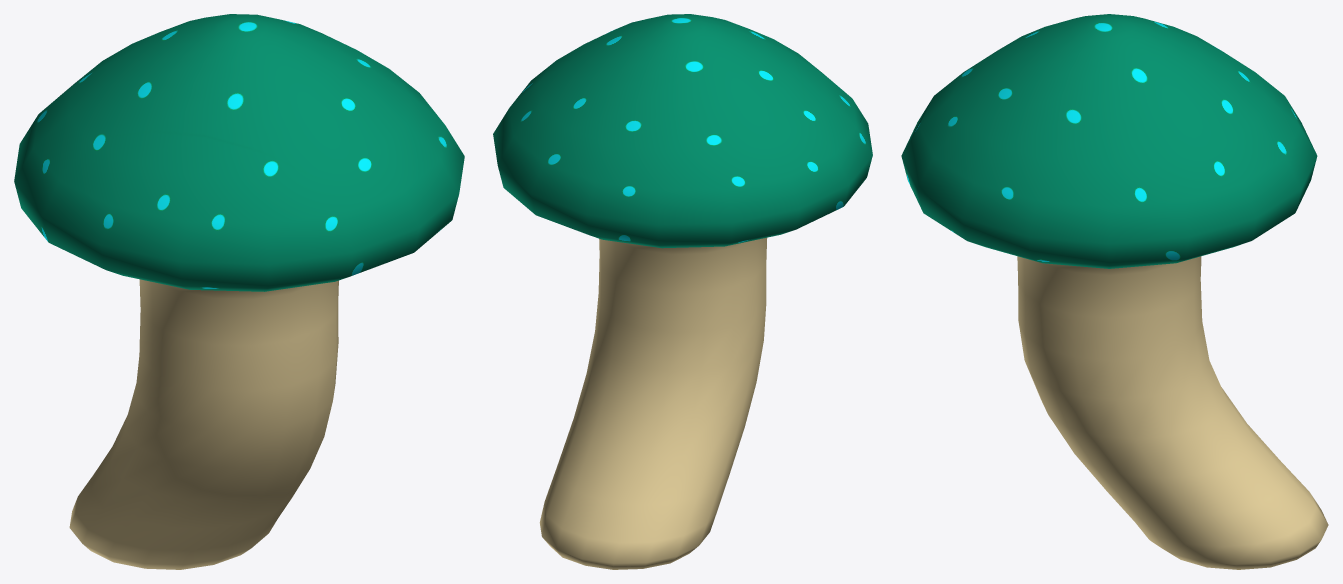
Rendered from カイミンタケ.fbx.
3 renders of one model, left to right at view 1: azimuth 30°, elevation 25°; view 2: azimuth 150°, elevation 25°; view 3: azimuth 270°, elevation 25°, orthographic. The views are drawn at different scales.
Visible parts, largest first — view 1: Cube; view 2: Cube; view 3: Cube.
Part boxes in pixels (<box>): Cube: <box>14,14,464,569</box>; Cube: <box>493,14,872,569</box>; Cube: <box>901,14,1328,569</box>.
Bounding box in the file's own units: 884 × 1228 × 907.
Materials: 2 (1 with a texture image).
